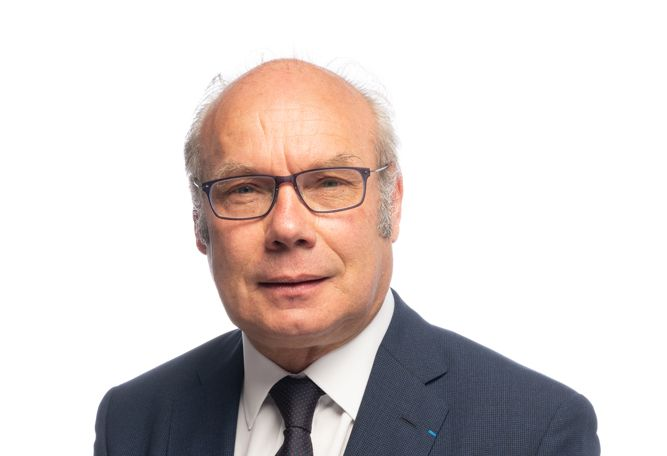without_mask: (182, 57, 405, 347)
